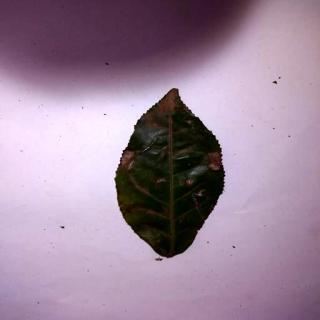Anthracnose: (116, 89, 228, 258)
